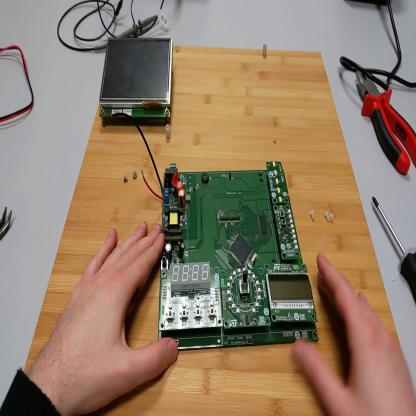hand: (44, 218, 178, 416), (293, 253, 416, 416)
low voltage board: (113, 114, 319, 351)
oscilloscope probe tip: (95, 14, 159, 56)
pliers: (357, 64, 416, 178), (1, 203, 14, 241)
screwdriver-: (373, 197, 416, 302)
working area: (25, 49, 405, 415)
